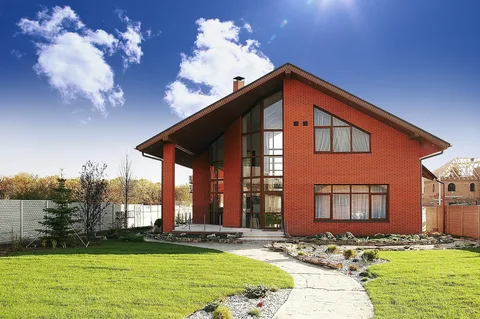private_hause: (132, 62, 430, 237)
